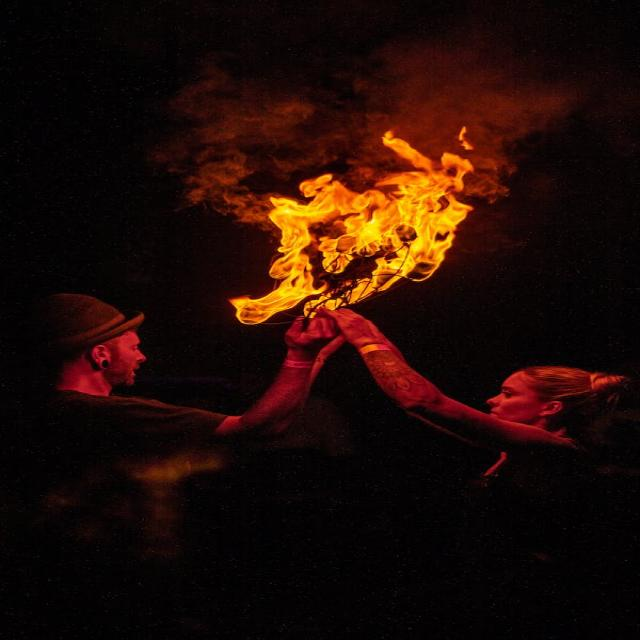fire: (197, 69, 499, 334)
